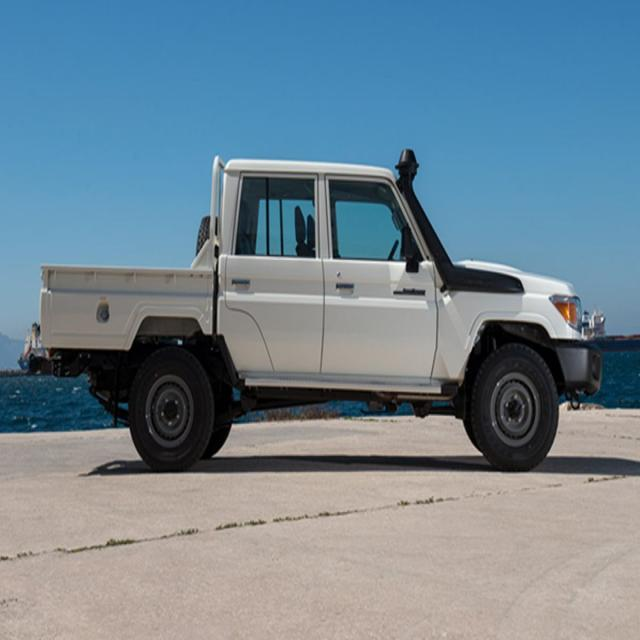light_vehicle: (29, 139, 606, 493)
